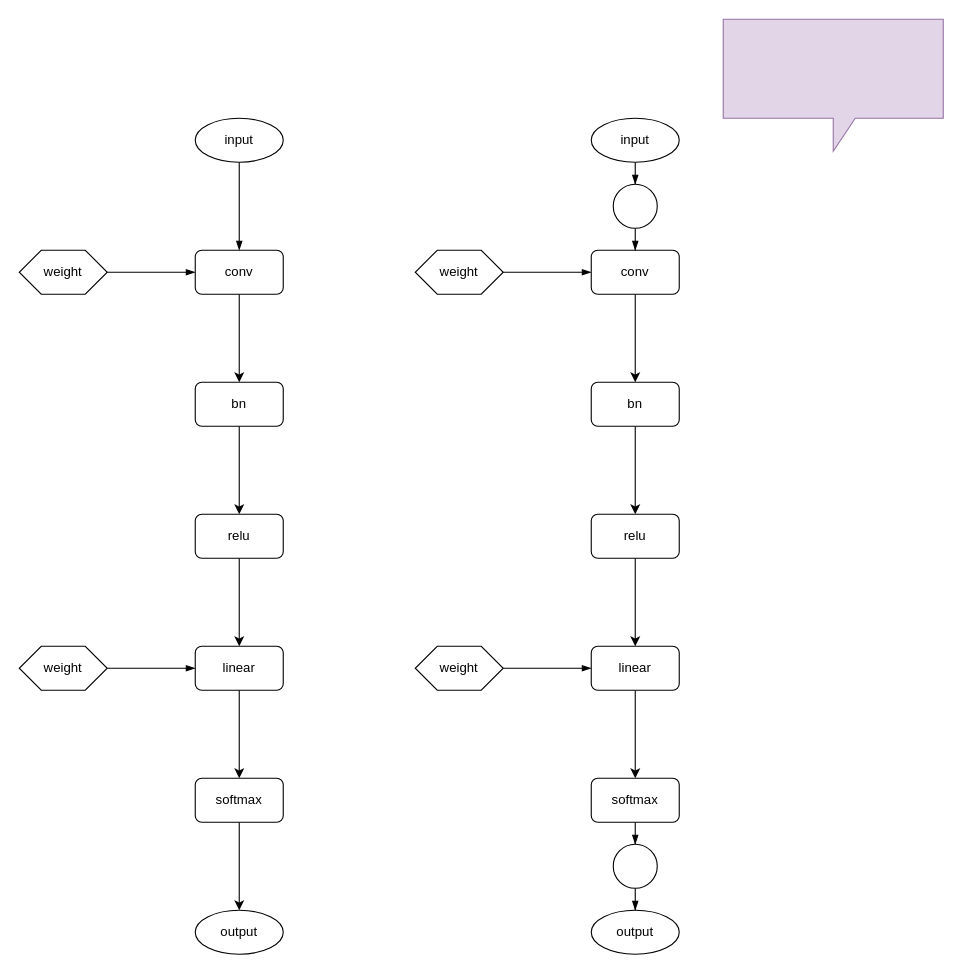
Image size: 963x974. Some labels were removed from this diagram. Here are the shapes that lost their labels. From the top down, the box of each, then its label:
(722, 18, 943, 151): 1. Quant 2. Conv和Linear 3. bn ------------------- 为什么对Pool不加QDQ?
(612, 183, 657, 228): Quant
(612, 843, 657, 888): DeQuant
